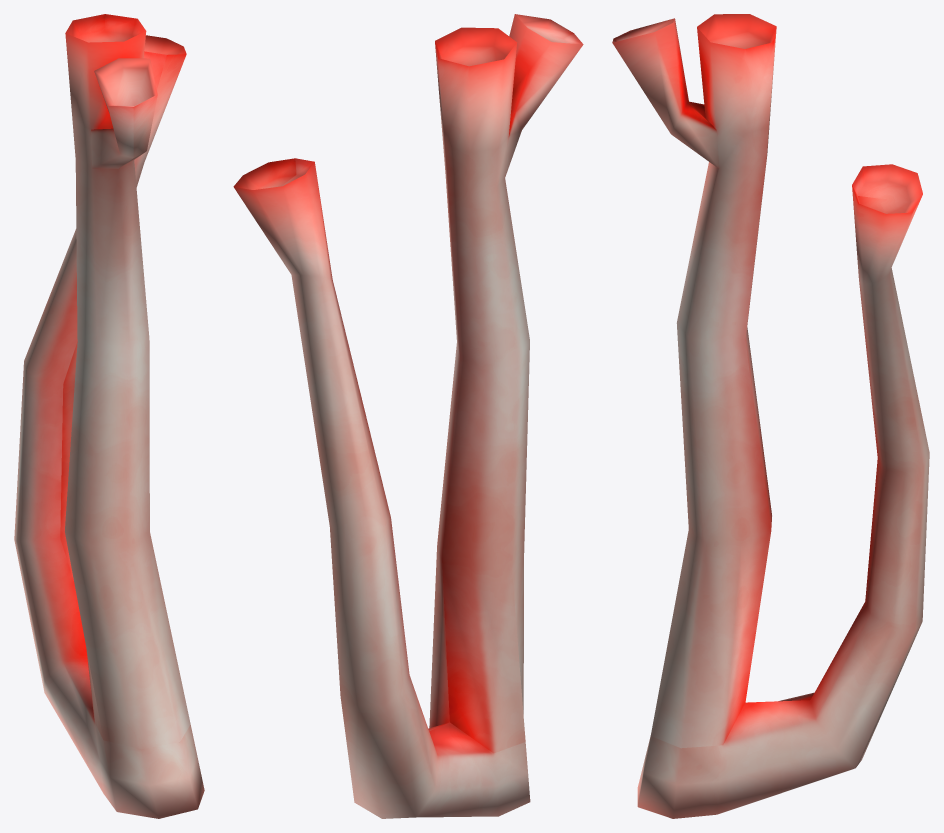
The model's file is CoralLong.glb.
3 views of the same model, side by side, from view 1: azimuth 30°, elevation 25°; view 2: azimuth 150°, elevation 25°; view 3: azimuth 270°, elevation 25° (orthographic). The views are drawn at different scales.
Visible parts, largest first — view 1: Cylinder; view 2: Cylinder; view 3: Cylinder.
Part boxes in pixels (x1=…): Cylinder: x1=14, y1=14, x2=204, y2=818; Cylinder: x1=233, y1=14, x2=583, y2=818; Cylinder: x1=612, y1=14, x2=929, y2=818.
Size of the model in its own units: 4.52 by 16.05 by 6.09.
Materials: 1 (1 with a texture image).
